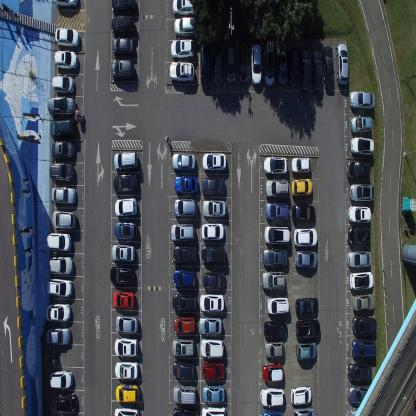car: (112, 172, 140, 195), (46, 96, 76, 117), (262, 246, 289, 268), (169, 60, 194, 83), (348, 383, 374, 405), (172, 244, 198, 266), (263, 224, 290, 245), (199, 337, 224, 359), (110, 58, 135, 80), (293, 226, 318, 248), (263, 155, 288, 177), (113, 149, 138, 171), (54, 27, 80, 48), (109, 265, 135, 286), (111, 14, 135, 36), (296, 317, 320, 339), (260, 386, 284, 408), (264, 177, 288, 199), (174, 174, 198, 196), (114, 196, 138, 218), (200, 245, 225, 266), (351, 339, 376, 360), (115, 382, 140, 403), (199, 292, 225, 312), (349, 136, 375, 156), (349, 90, 375, 110), (50, 119, 76, 139), (46, 232, 72, 252), (48, 255, 74, 275), (47, 277, 73, 297), (48, 370, 74, 390), (200, 43, 211, 90), (336, 43, 348, 86), (174, 15, 197, 37), (261, 362, 284, 384), (261, 269, 284, 291), (201, 176, 225, 197), (202, 361, 226, 382), (348, 362, 372, 383), (347, 160, 371, 181), (287, 45, 299, 87), (265, 201, 289, 222), (172, 384, 196, 405), (111, 242, 135, 263), (50, 139, 75, 159), (49, 162, 74, 182), (51, 210, 76, 230), (171, 152, 196, 172), (173, 198, 198, 218), (170, 223, 195, 243), (323, 44, 334, 89), (276, 41, 287, 85), (295, 249, 318, 270), (173, 268, 196, 289), (352, 316, 376, 336), (170, 38, 194, 58), (54, 50, 78, 70), (201, 198, 226, 217), (349, 183, 374, 202), (51, 186, 76, 205), (46, 303, 71, 322), (46, 327, 71, 346), (113, 337, 138, 356), (113, 221, 138, 240), (238, 41, 249, 84), (265, 40, 275, 87), (352, 292, 375, 312), (51, 74, 74, 94), (264, 319, 287, 339), (173, 314, 196, 334), (172, 360, 195, 380), (115, 313, 138, 333), (112, 290, 135, 310), (202, 271, 226, 290), (198, 316, 222, 335), (347, 226, 371, 245), (294, 296, 318, 315), (172, 292, 196, 311), (201, 152, 226, 170), (347, 250, 372, 268), (290, 385, 312, 405), (251, 42, 261, 86), (112, 36, 134, 56), (291, 177, 313, 197), (172, 338, 194, 358), (266, 296, 289, 315), (201, 222, 225, 240), (349, 272, 373, 290), (291, 204, 315, 222), (114, 361, 138, 379), (312, 50, 322, 92), (350, 115, 372, 134), (201, 384, 224, 402), (348, 205, 371, 223), (300, 50, 310, 91), (226, 44, 236, 84), (213, 44, 223, 84), (296, 340, 316, 360), (56, 392, 77, 411), (264, 341, 285, 358), (111, 0, 136, 14), (172, 0, 195, 15), (290, 156, 310, 173), (200, 406, 226, 416), (173, 405, 199, 415), (114, 405, 140, 415), (292, 406, 316, 416), (349, 408, 376, 416), (260, 408, 282, 416), (56, 0, 78, 8)
